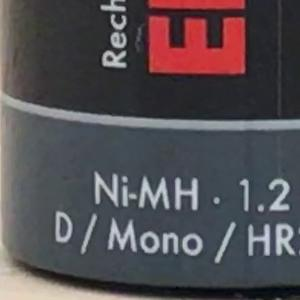keyword: (85, 168, 207, 216)
